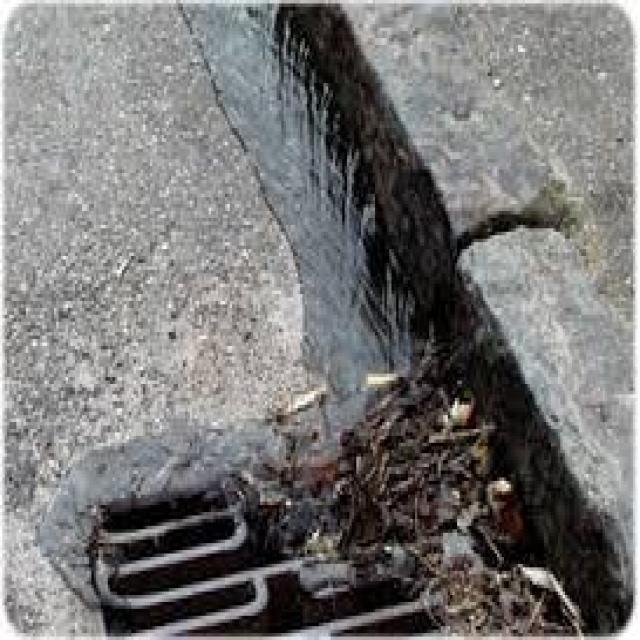hole: (60, 411, 555, 640)
